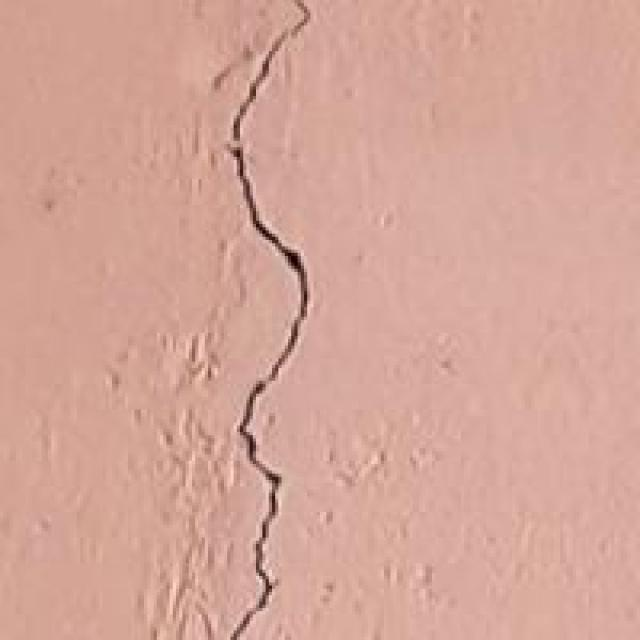crack: (170, 0, 355, 637)
